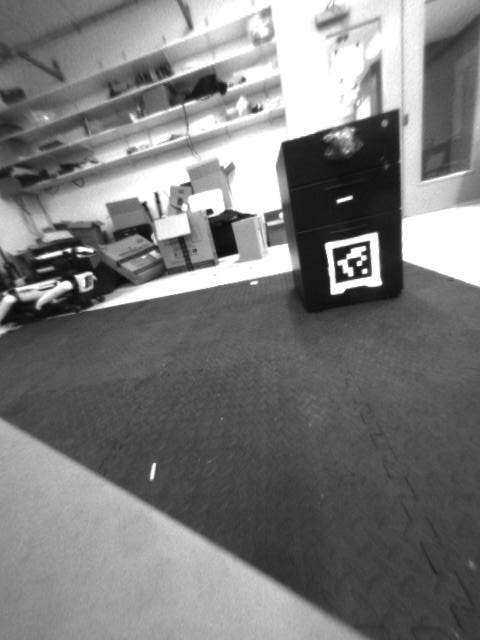drawer: (313, 127, 369, 165)
